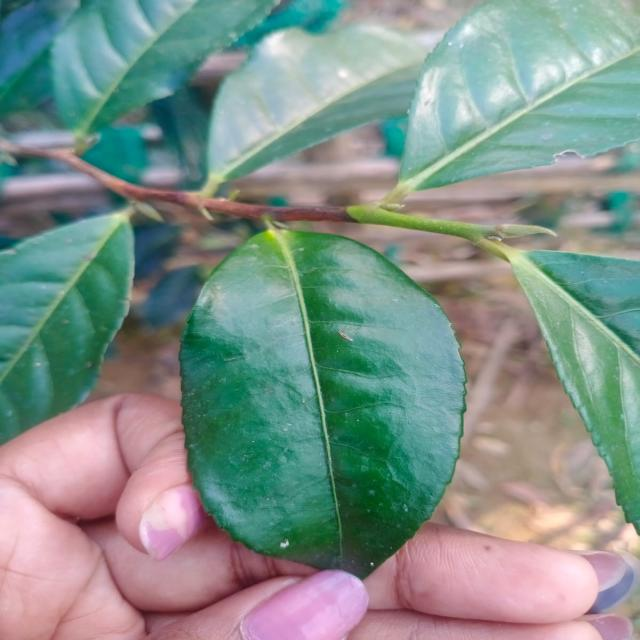Category D 7+ days, Not for Tea: (162, 218, 478, 592)
